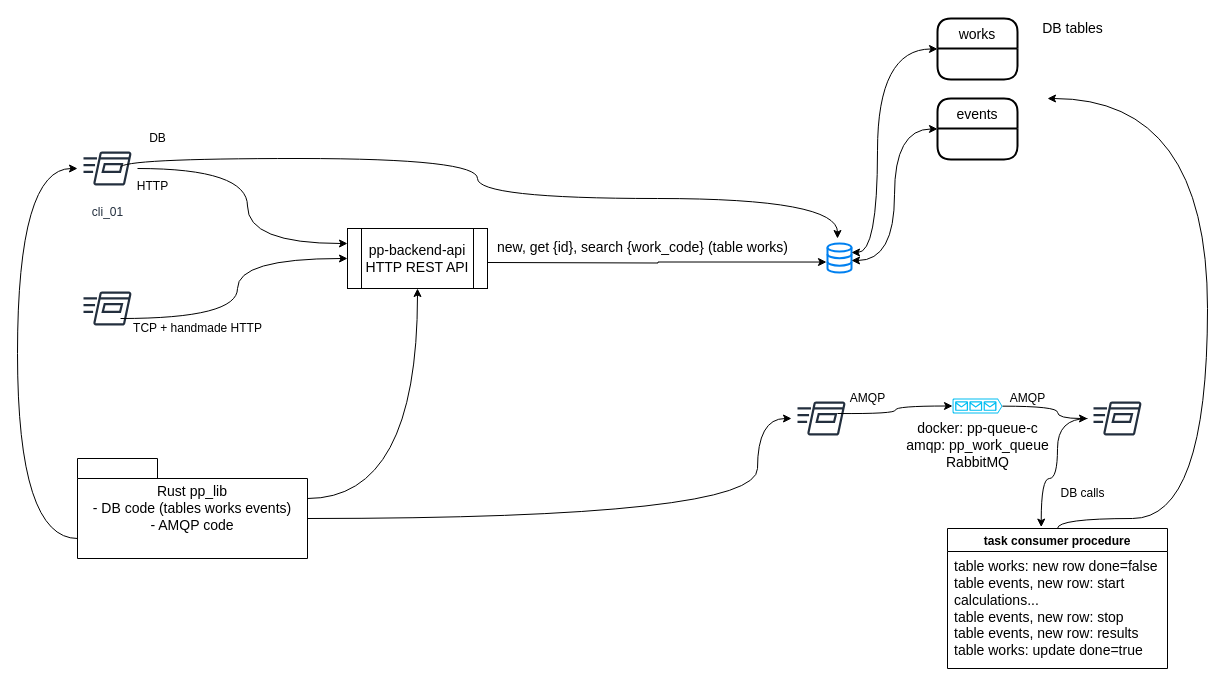
Image size: 1225x686. Some labels were removed from this diagram. The box of each missing label's shape, as (x1, y1, x2, y2) in pixels:
cli_02: (76, 278, 138, 338)
docker: pp-storage-c db: personalproject PostgresSQL: (826, 242, 852, 273)
task_consumer (CLI): (1086, 388, 1148, 448)
task_producer (CLI): (790, 388, 852, 448)
